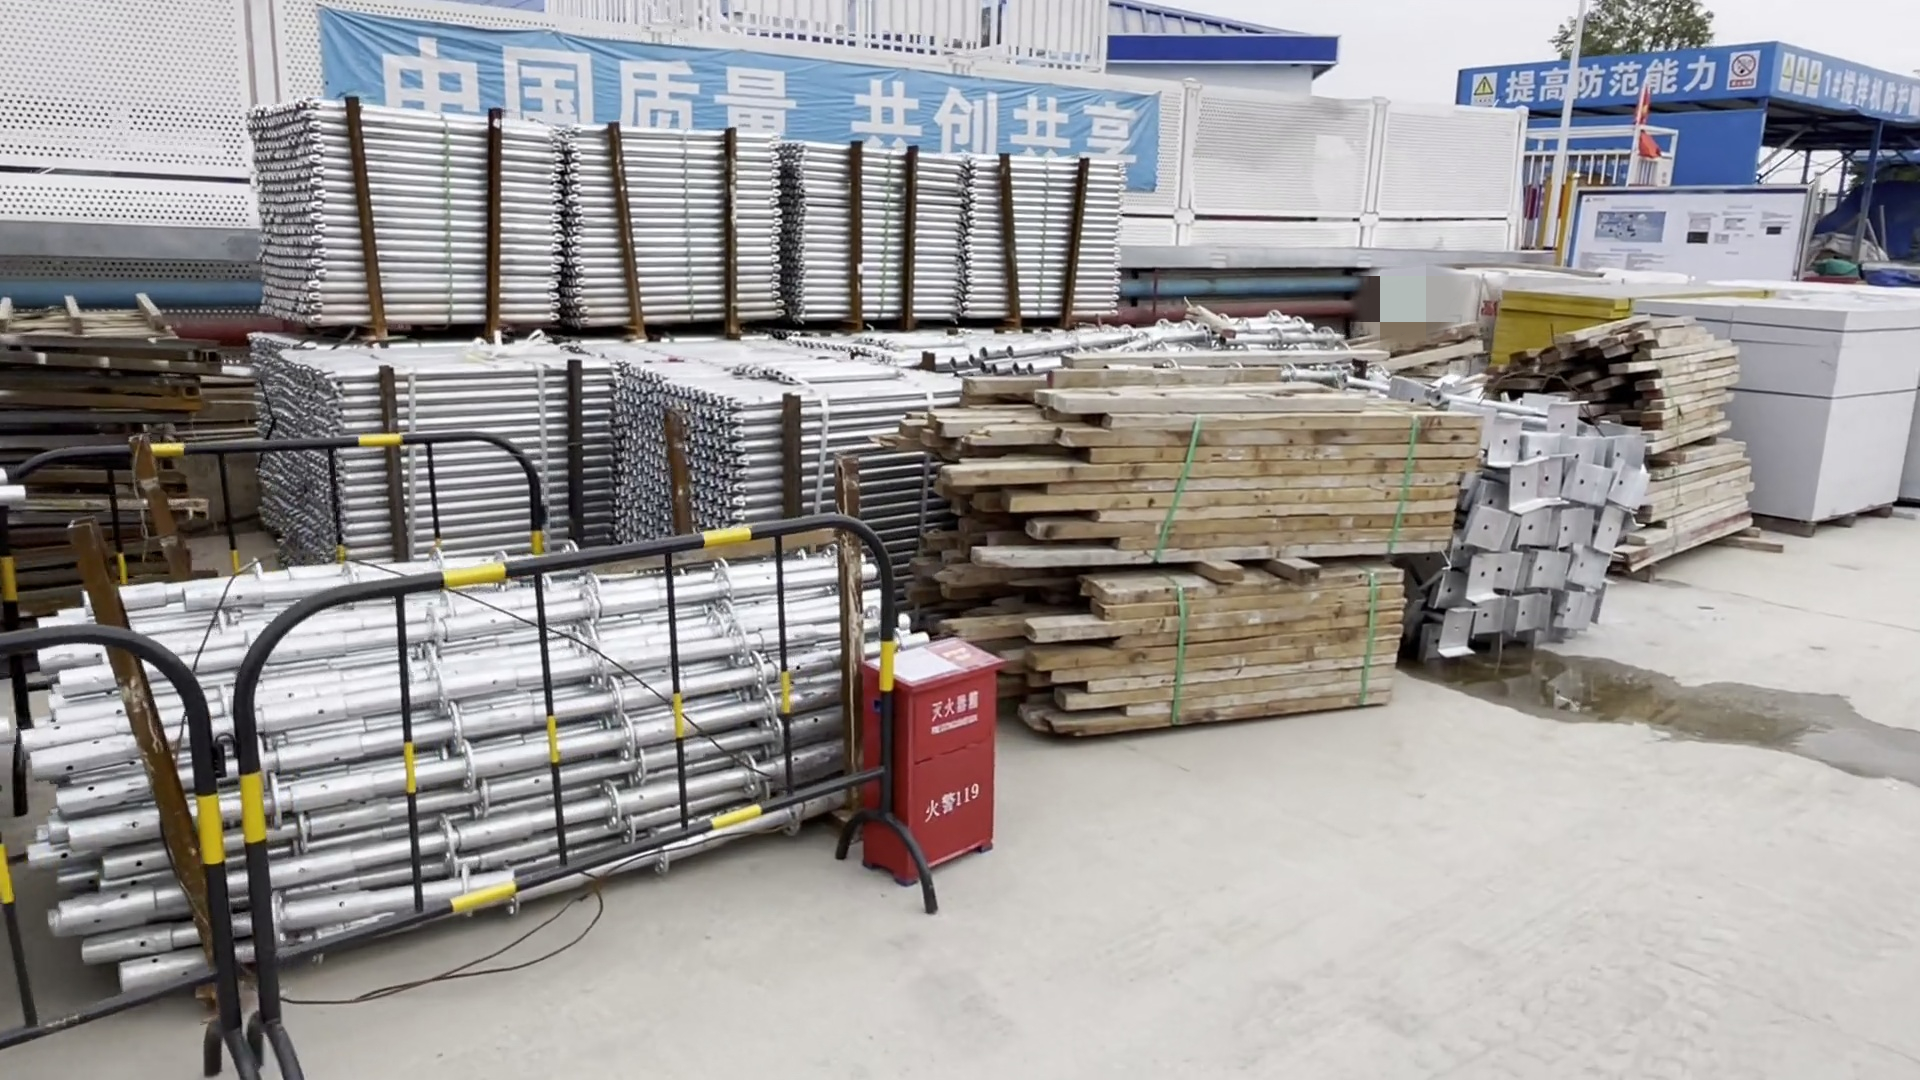scaffold: (3, 477, 906, 996), (228, 84, 1121, 582)
slogan: (306, 3, 1175, 200), (1465, 44, 1919, 131)
wood: (960, 367, 1445, 752)
